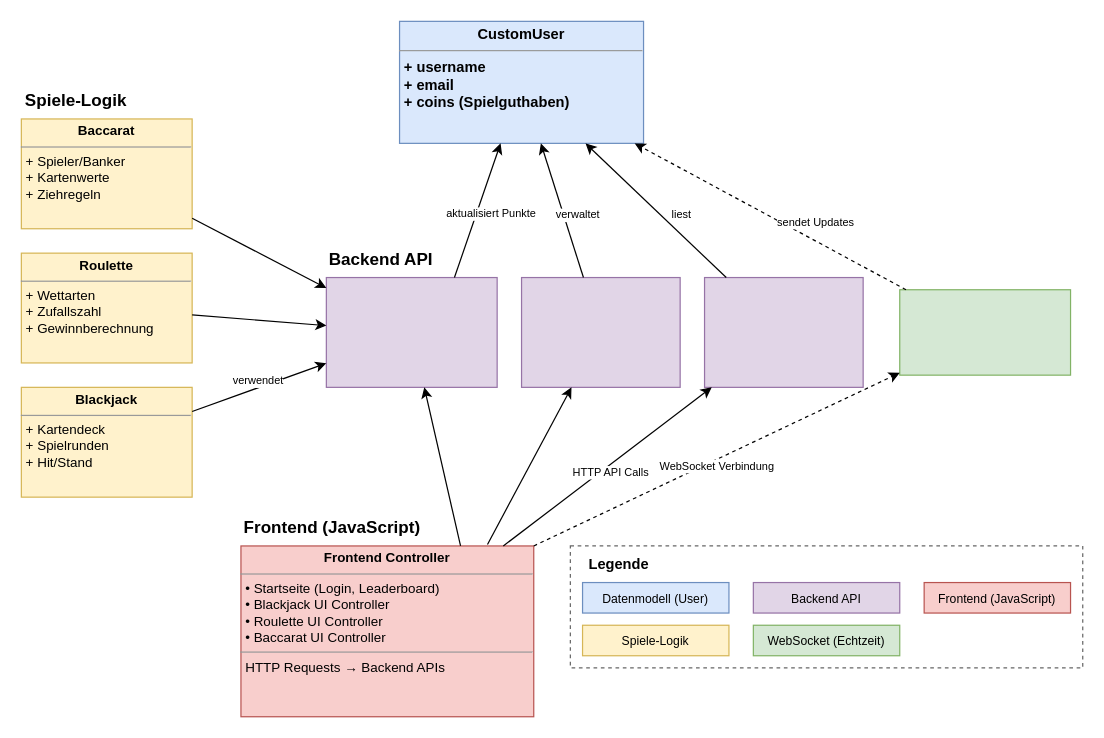
The diagram is 1104 pixels wide and 738 high, and some of its shapes have lost their labels. The shapes that lost their labels are listed below. From the top down, each one's box as (x1, y1, x2, y2) in pixels, then its label:
(325, 276, 497, 387): Game APIs Spiel-Endpunkte Punkte-Updates Spiellogik-Aufrufe
(520, 276, 680, 387): Authentication Login/Logout Registrierung Session
(703, 276, 863, 387): Leaderboard Top-Spieler Punkte-Ranking
(899, 289, 1071, 375): WebSocket Echtzeit-Updates Punkte-Broadcast
